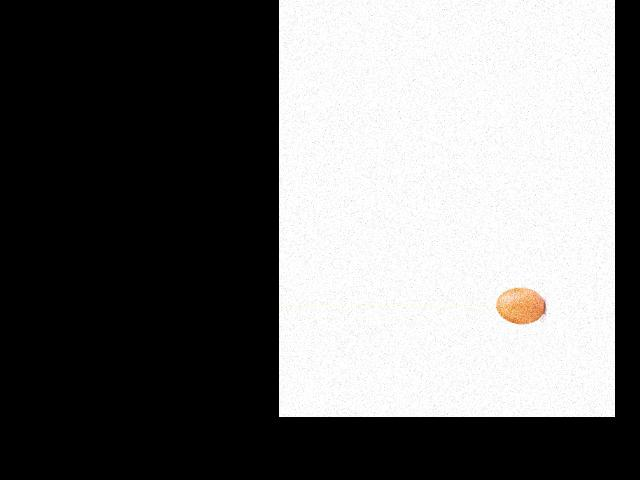egg: (496, 288, 545, 324)
